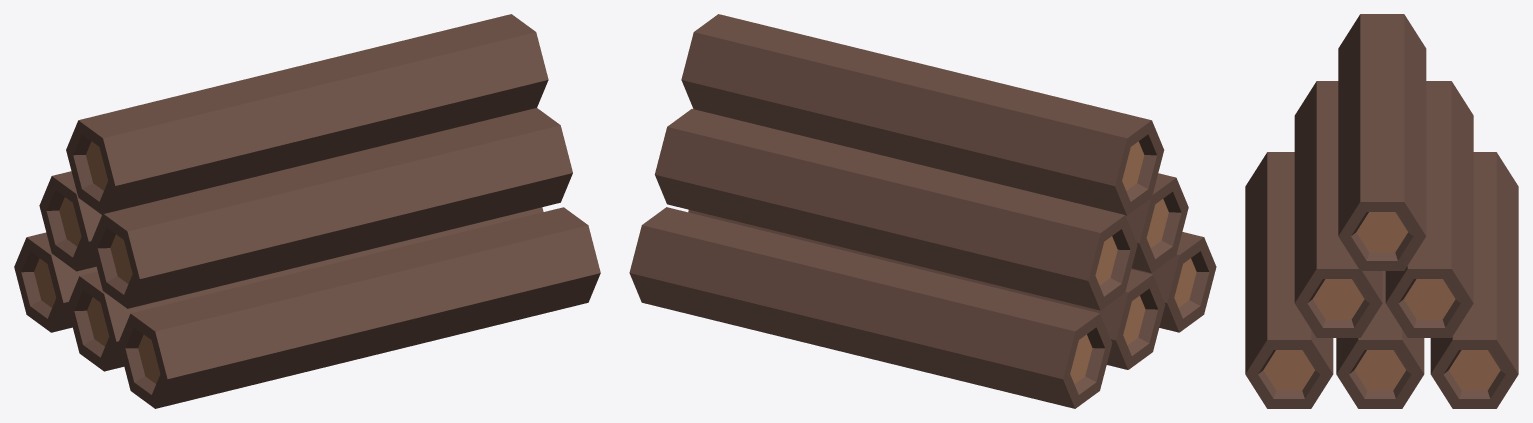
The model's file is Trunk_03.fbx.
The picture shows the model from 3 angles, left to right: view 1: azimuth 30°, elevation 25°; view 2: azimuth 150°, elevation 25°; view 3: azimuth 270°, elevation 25°; orthographic projection. The views are drawn at different scales.
Visible parts, largest first — view 1: Trunk_03; view 2: Trunk_03; view 3: Trunk_03.
Part boxes in pixels (x1,y1,x2,y2): Trunk_03: (14,14,600,408); Trunk_03: (629,14,1216,408); Trunk_03: (1245,14,1518,408).
Size of the model in its own units: 270 by 139 by 166.
